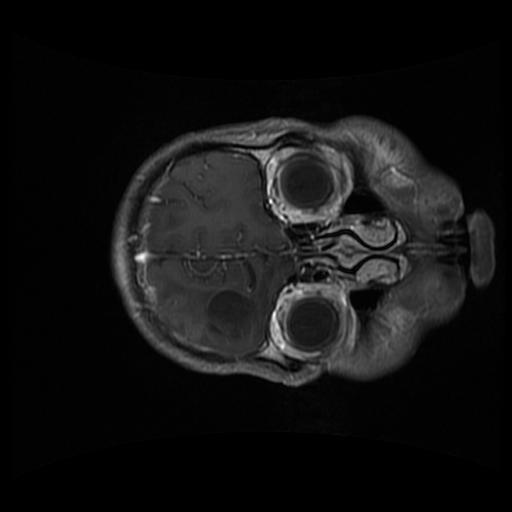glioma: (204, 288, 261, 349)
